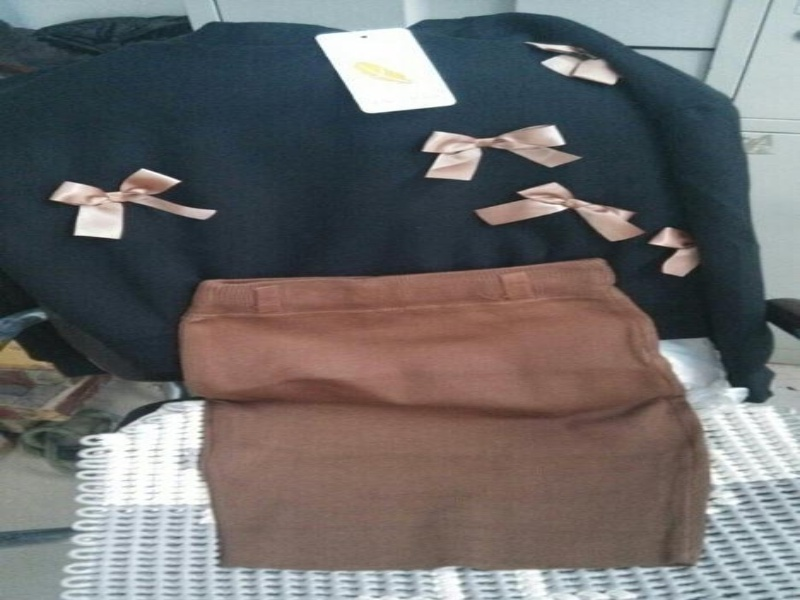long_sleeved_shirt: (0, 13, 778, 409)
skirt: (171, 258, 715, 575)
